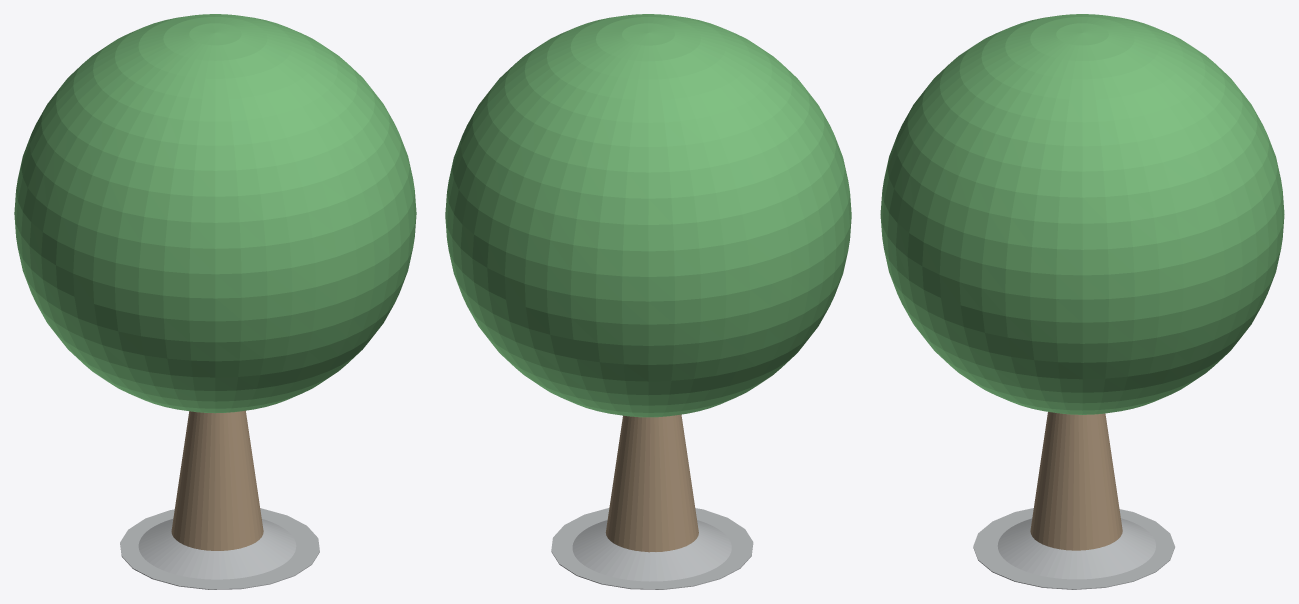
File: Tree1.glb
3 views of the same model, side by side, from view 1: azimuth 30°, elevation 25°; view 2: azimuth 150°, elevation 25°; view 3: azimuth 270°, elevation 25° (orthographic).
Parts seen in each view (by area): view 1: Mesh_Mesh_head_geo.001_lambert2SG.001; view 2: Mesh_Mesh_head_geo.001_lambert2SG.001; view 3: Mesh_Mesh_head_geo.001_lambert2SG.001.
Part boxes in pixels (bbox=[...]): Mesh_Mesh_head_geo.001_lambert2SG.001: bbox=[14, 14, 416, 589]; Mesh_Mesh_head_geo.001_lambert2SG.001: bbox=[445, 14, 851, 589]; Mesh_Mesh_head_geo.001_lambert2SG.001: bbox=[880, 14, 1284, 589].
Bounding box in the file's own units: 5 × 7.02 × 5.
